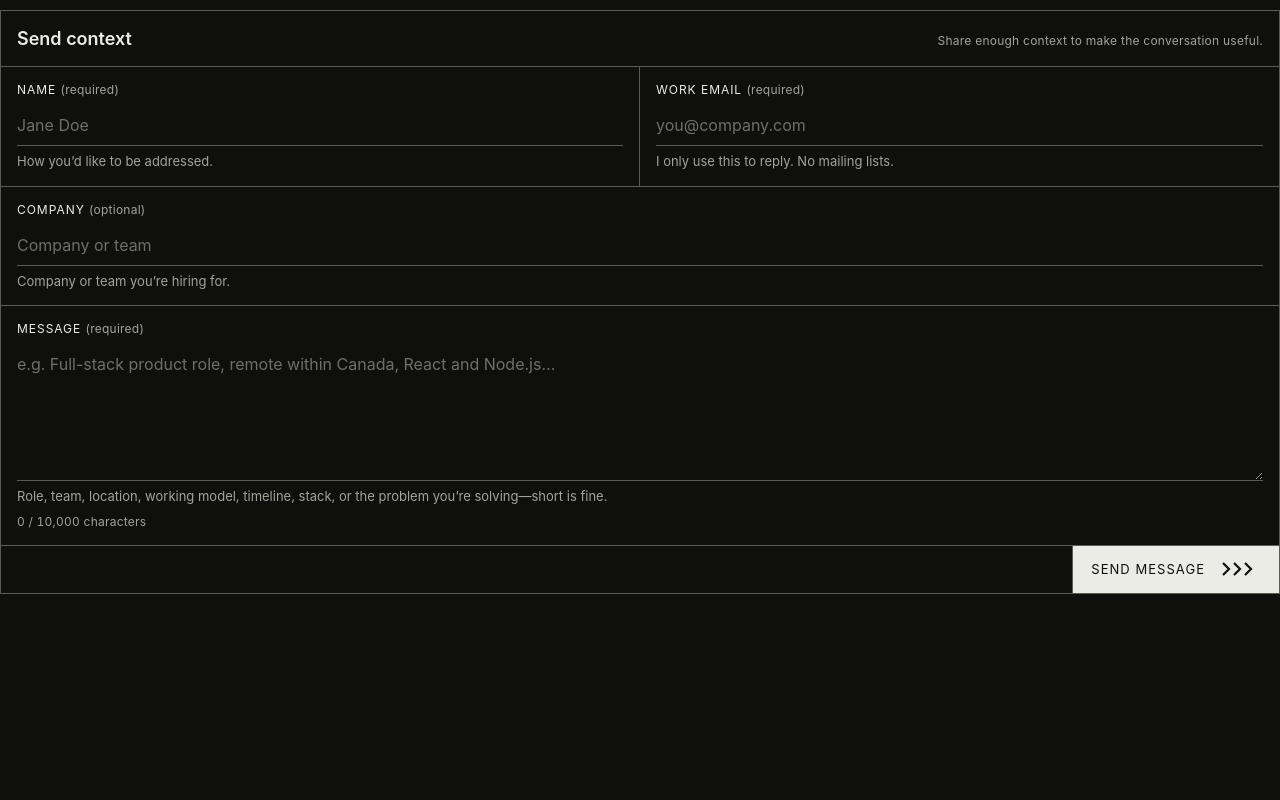
Test: ContactForm › should show validation error when name is empty on submit
Click the button "Send message".
click(1176, 569)  # box [1072,546,1279,593]
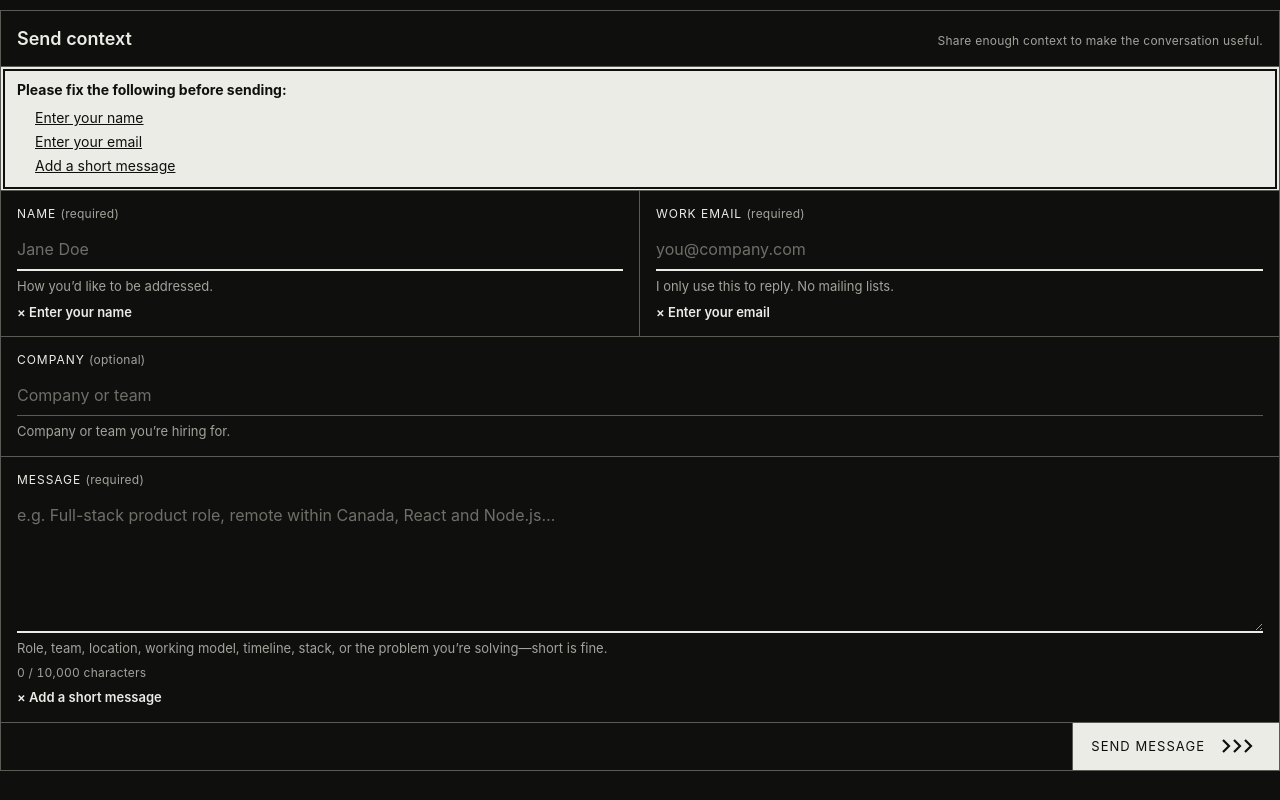
Result: the link "Enter your name" is shown at [35,106,144,130]
Result: the text "Please fix the following before sending:" is shown at [17,81,287,98]
